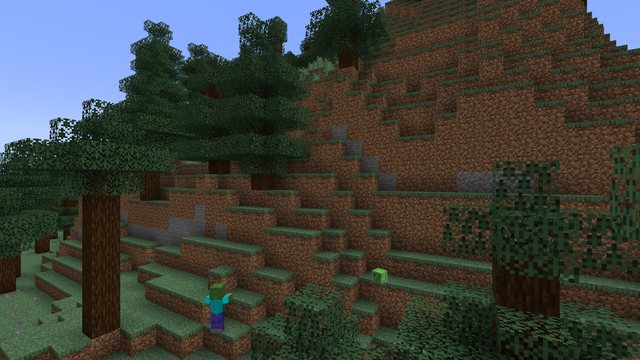slimes: (372, 267, 386, 284)
zombies: (207, 283, 227, 337)
